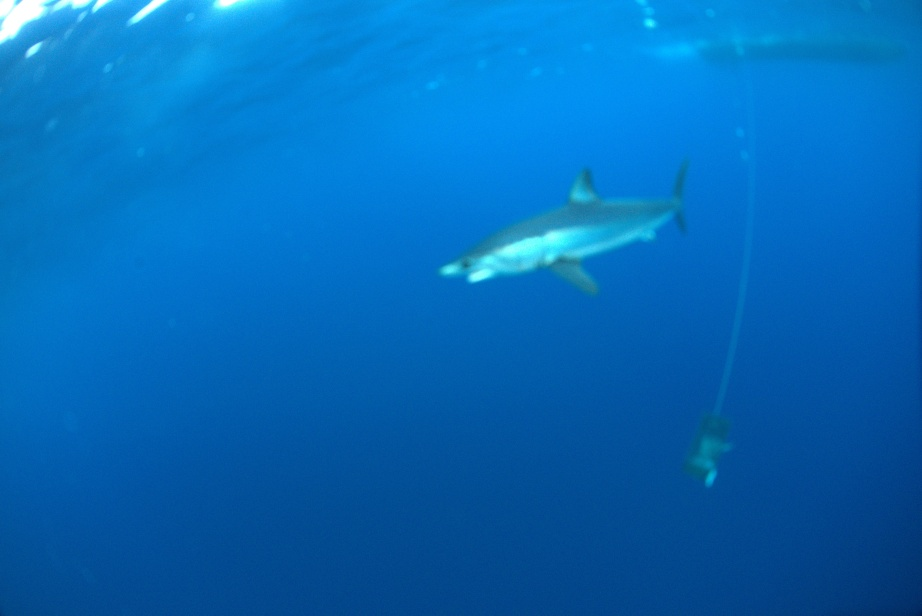Mako: (431, 156, 708, 311)
